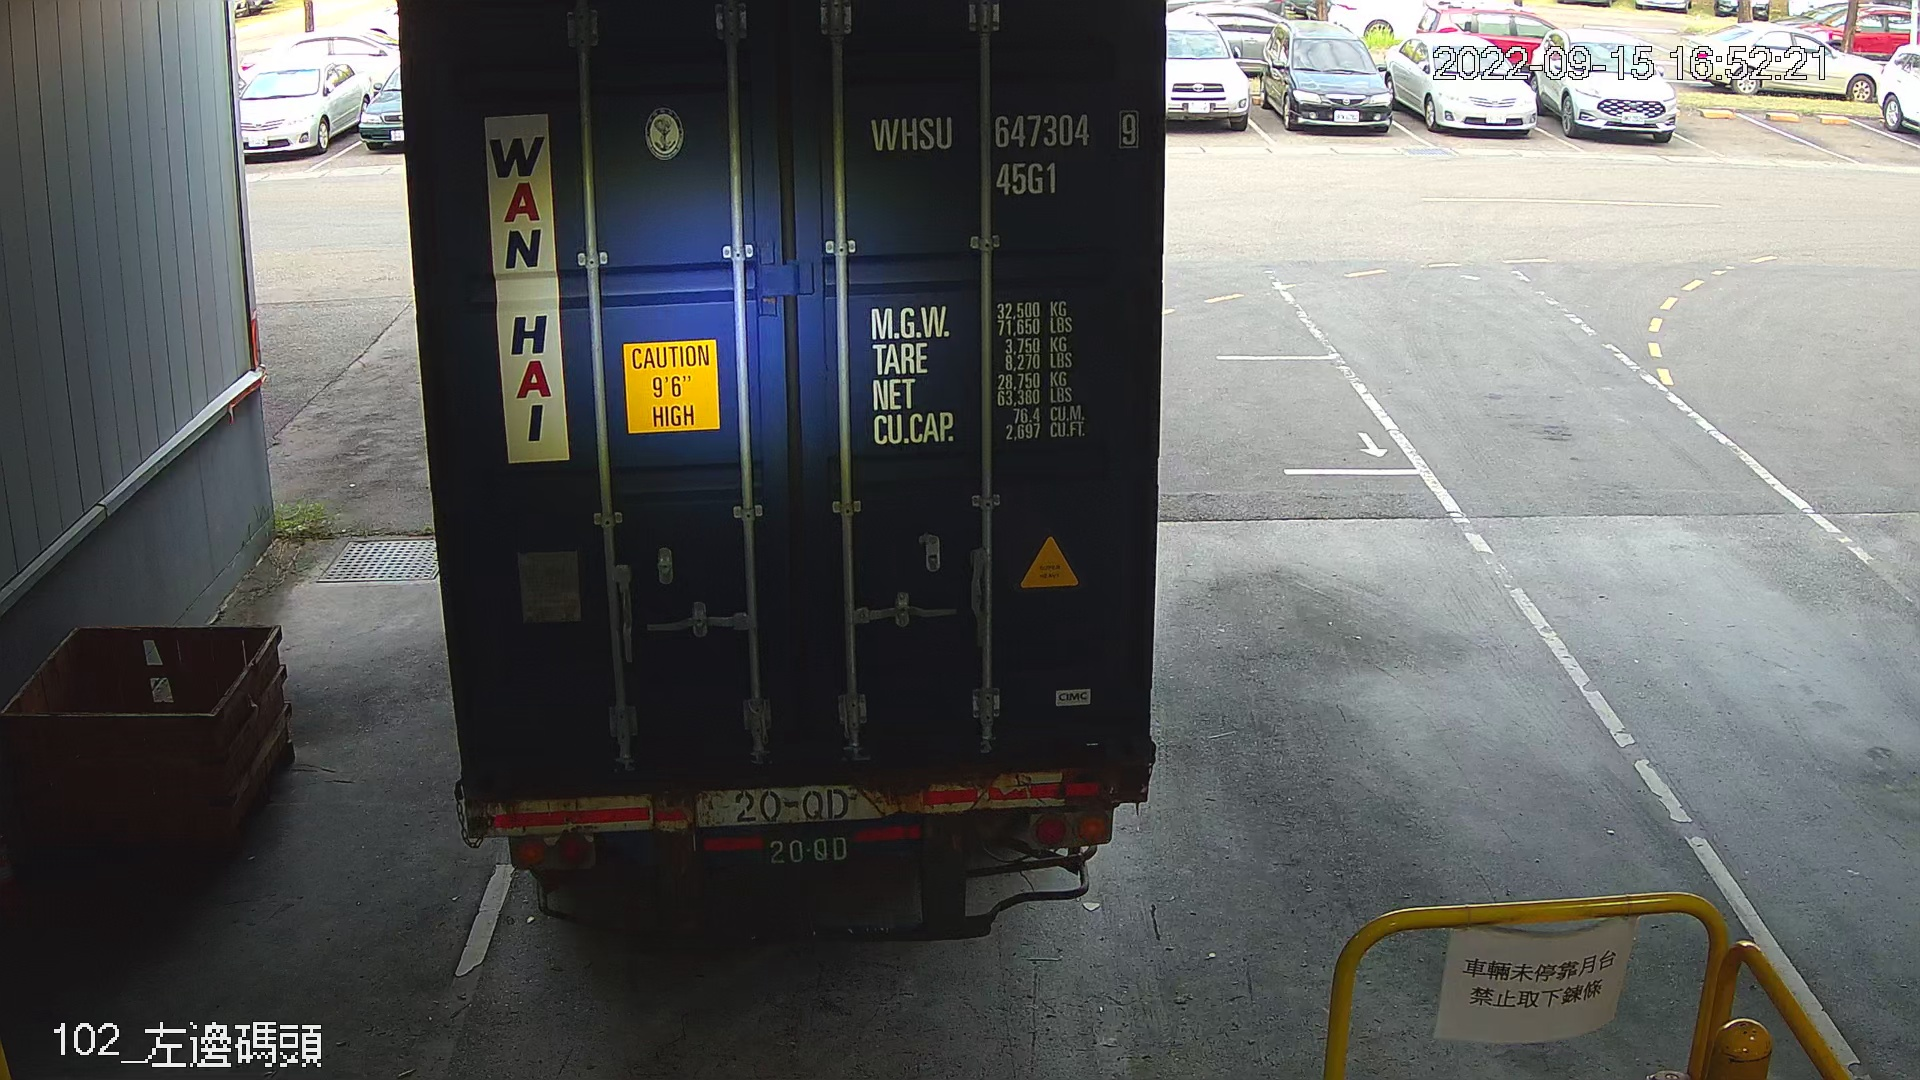container: (862, 102, 1151, 204)
